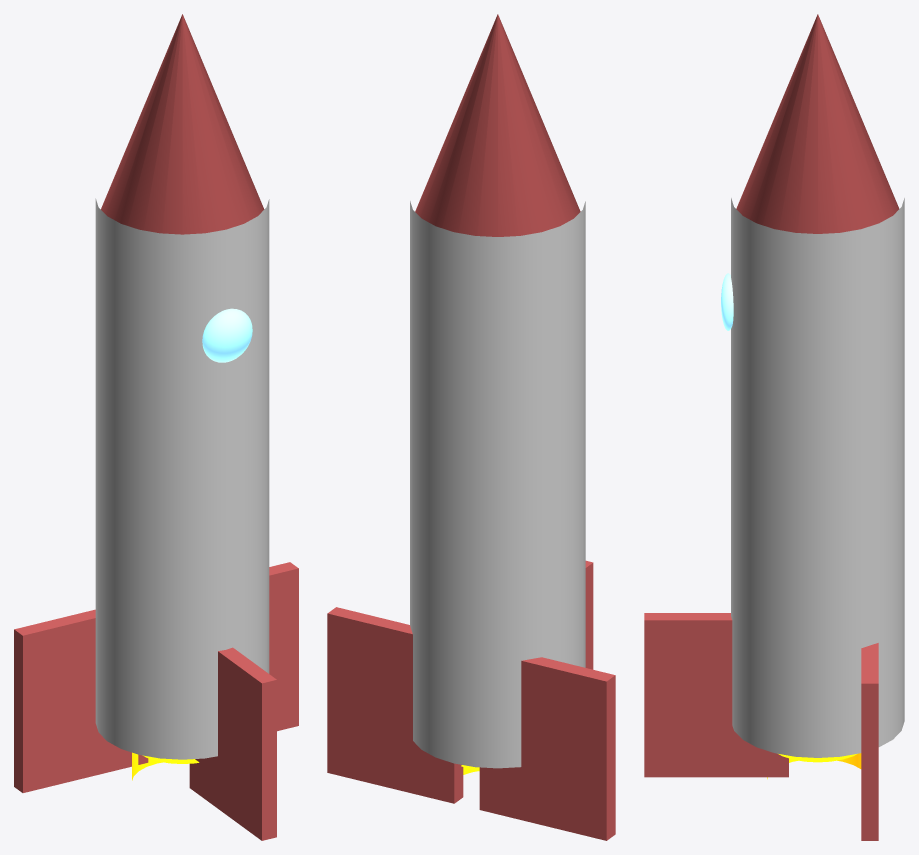
Rendered from rocket.glb.
3 renders of one model, left to right at view 1: azimuth 30°, elevation 25°; view 2: azimuth 150°, elevation 25°; view 3: azimuth 270°, elevation 25°, orthographic.
Parts seen in each view (by area): view 1: body, nose, fin3, fin1, fin2, window; view 2: body, nose, fin3, fin2, fin1; view 3: body, nose, fin1, fin2, window, engine.
Part boxes in pixels (box(x1,y1,x2,y2)): body: box(95, 198, 269, 759); nose: box(101, 14, 264, 234); fin3: box(14, 609, 148, 792); fin1: box(189, 647, 276, 840); fin2: box(269, 562, 298, 731); window: box(202, 308, 252, 362); body: box(410, 201, 585, 768); nose: box(415, 14, 580, 236); fin3: box(479, 657, 615, 840); fin2: box(327, 607, 463, 803); fin1: box(585, 560, 593, 669); body: box(731, 198, 904, 757); nose: box(736, 14, 899, 233); fin1: box(644, 613, 788, 777); fin2: box(861, 643, 878, 840); window: box(721, 273, 733, 330); engine: box(767, 753, 861, 779).
Bounding box in the file's own units: 1.1 × 2.93 × 0.9.
